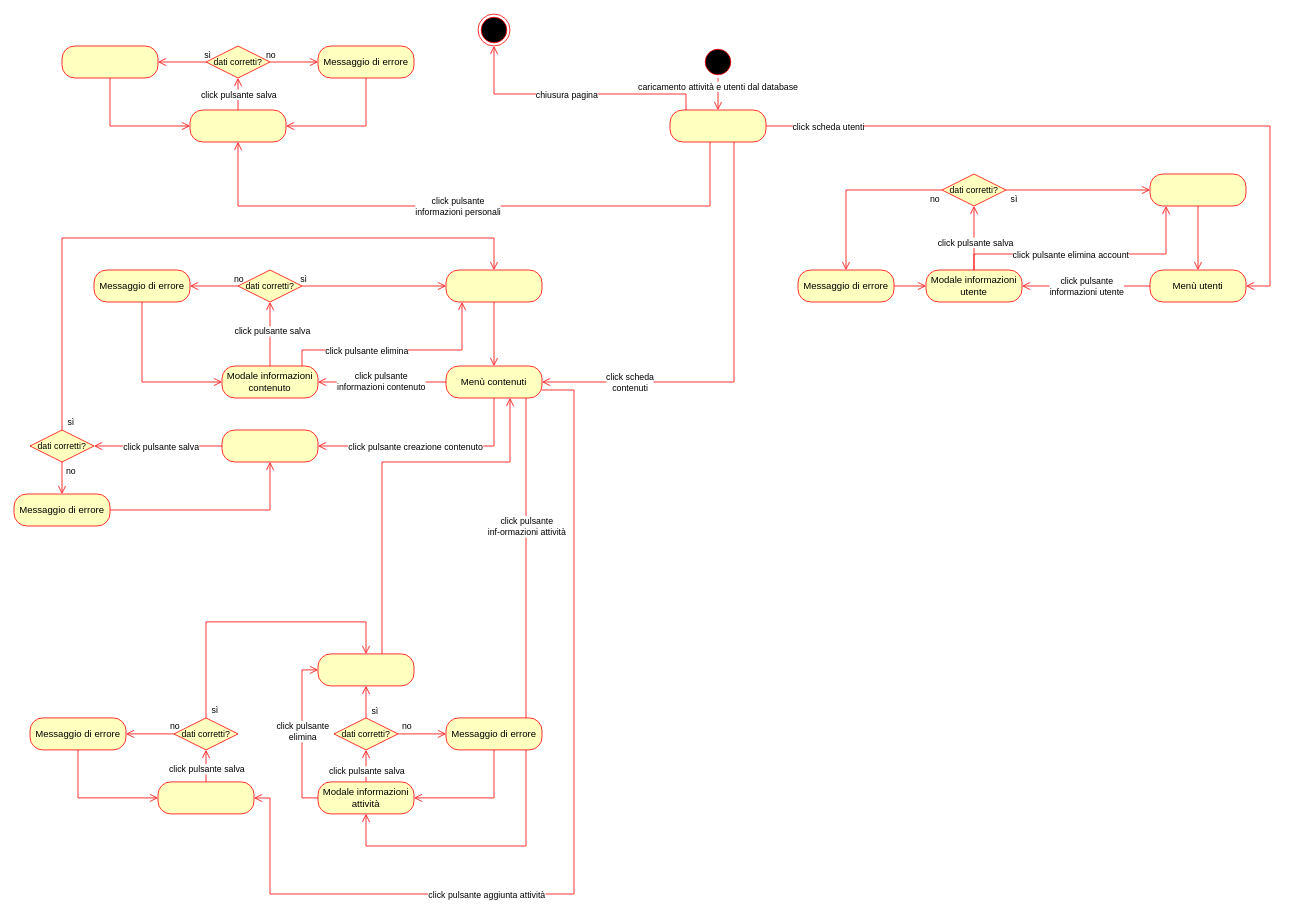
The diagram is 1292 pixels wide and 916 high, and some of its shapes have lost their labels. The shapes that lost their labels are listed below. From the top down, each one's box as (x1, y1, x2, y2) in pixels, then its label:
(61, 45, 158, 78): Salvataggio dati paziente su database
(189, 109, 286, 142): Modale informazioni personali
(669, 109, 766, 142): Pagina home amministratore
(1149, 173, 1246, 206): Modifica dati utente su database
(445, 269, 542, 302): Modifca dati contenuto su database
(221, 429, 318, 462): Modale creazione contenuto
(317, 653, 414, 686): Modifica dati attività su database
(157, 781, 254, 814): Modale aggiunta attività
